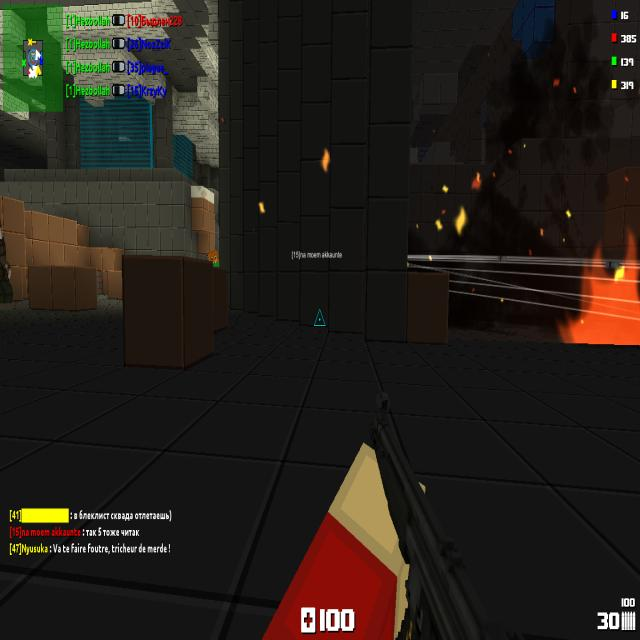enemy: (0, 216, 14, 304), (207, 250, 220, 267)
